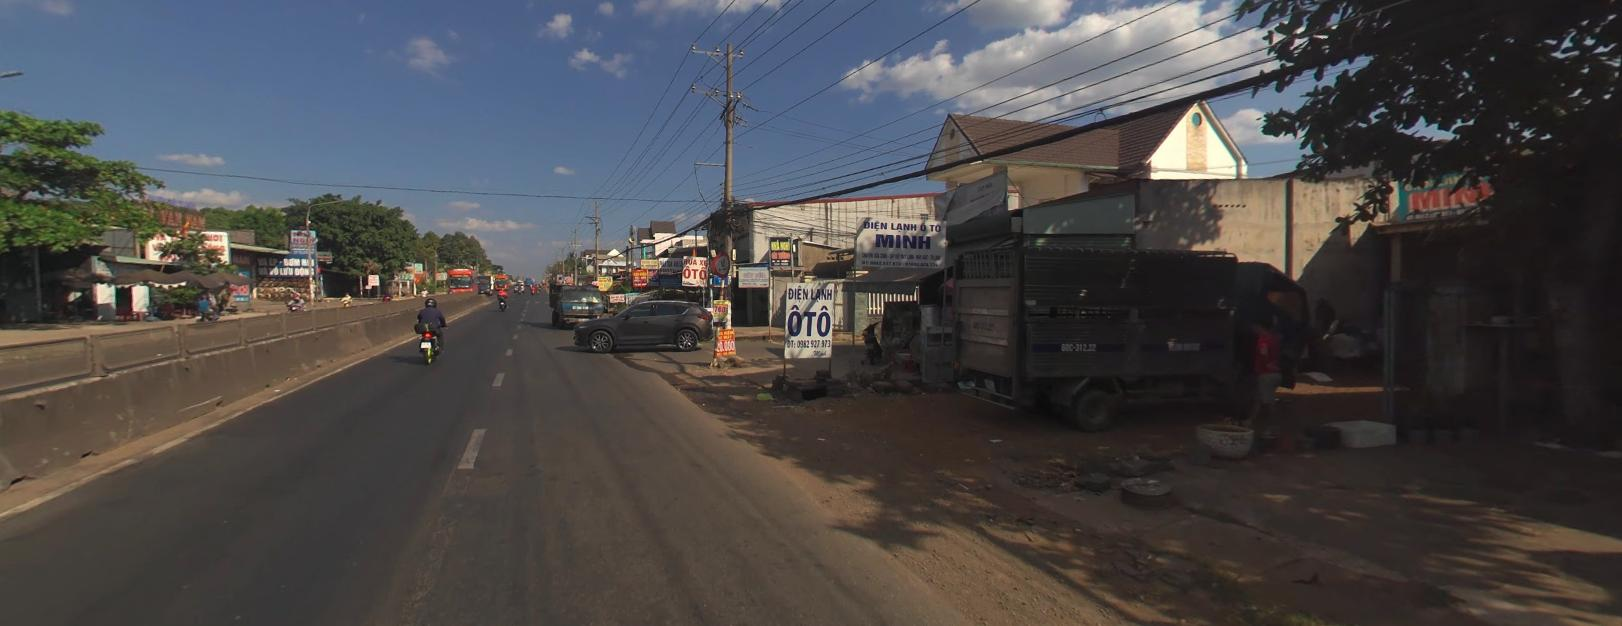Cam con lai: (711, 251, 730, 276)
Cam dung va do: (557, 274, 561, 278)
